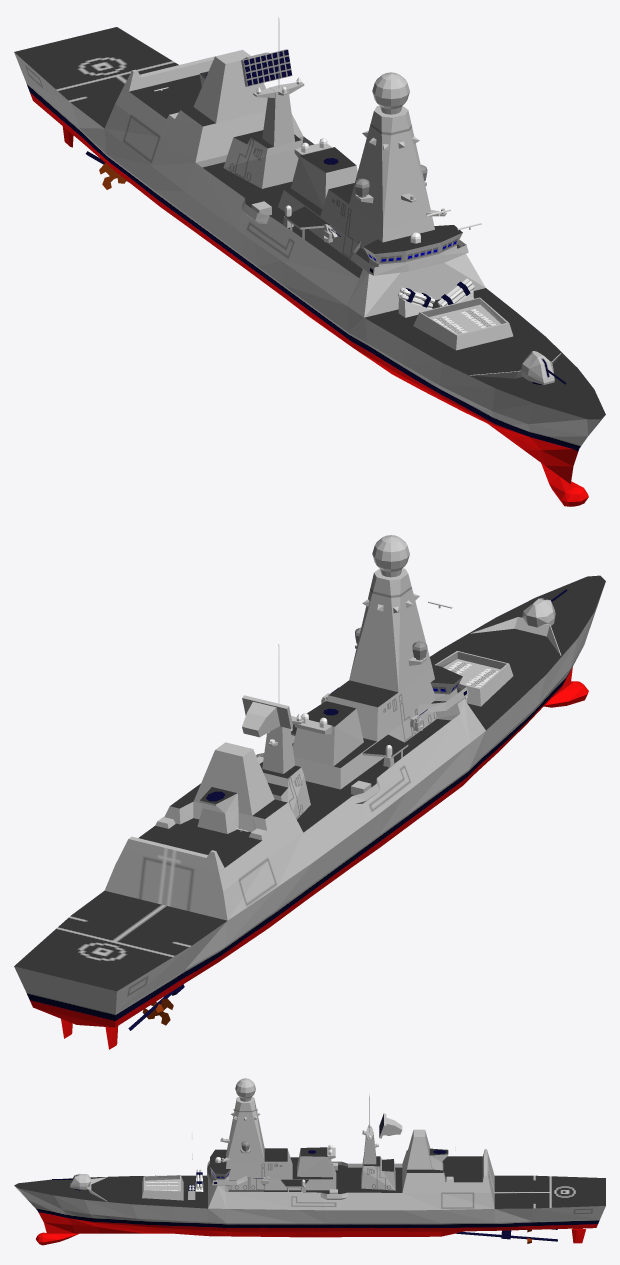
3 renders of one model, top to bottom at view 1: azimuth 30°, elevation 25°; view 2: azimuth 150°, elevation 25°; view 3: azimuth 270°, elevation 25°, orthographic. The views are drawn at different scales.
Parts seen in each view (by area): view 1: type-45.3ds_superstruc_Geometry_0, type-45.3ds_hull_Geometry_0, type-45.3ds_deck_Geometry_0, type-45.3ds_helo_pad_Geometry_0, type-45.3ds_3DSPIVOTPOINT: Rotate_3DSPIVOTPOINT: Translate . (×2), type-45.3ds_sylver_pit_Geometry_0, type-45.3ds_harpoons_Geometry_0, type-45.3ds_sylver_vls_Geometry_0, type-45.3ds_big_radome_Geometry_0, type-45.3ds_bridge_Geometry_0, type-45.3ds_bridge_win_Geometry_0, type-45.3ds_sonar_Geometry_0; view 2: type-45.3ds_superstruc_Geometry_0, type-45.3ds_hull_Geometry_0, type-45.3ds_deck_Geometry_0, type-45.3ds_helo_pad_Geometry_0, type-45.3ds_hangar_doo_Geometry_0, type-45.3ds_3DSPIVOTPOINT: Rotate_3DSPIVOTPOINT: Translate . (×2), type-45.3ds_sylver_pit_Geometry_0, type-45.3ds_big_radome_Geometry_0, type-45.3ds_sylver_vls_Geometry_0, type-45.3ds_deck_thing_Geometry_0, type-45.3ds_sonar_Geometry_0; view 3: type-45.3ds_hull_Geometry_0, type-45.3ds_superstruc_Geometry_0, type-45.3ds_deck_Geometry_0, type-45.3ds_helo_pad_Geometry_0, type-45.3ds_3DSPIVOTPOINT: Rotate_3DSPIVOTPOINT: Translate . (×2), type-45.3ds_sylver_pit_Geometry_0, type-45.3ds_sylver_vls_Geometry_0, type-45.3ds_big_radome_Geometry_0, type-45.3ds_prop_axis_Geometry_0, type-45.3ds_sonar_Geometry_0, type-45.3ds_harpoons_Geometry_0, type-45.3ds_bridge_win_Geometry_0.
Boxes of the visible parts, x1,y1,x2,y2 form: type-45.3ds_superstruc_Geometry_0: (104, 49, 485, 317); type-45.3ds_hull_Geometry_0: (14, 52, 605, 483); type-45.3ds_deck_Geometry_0: (129, 71, 605, 419); type-45.3ds_helo_pad_Geometry_0: (14, 27, 178, 128); type-45.3ds_3DSPIVOTPOINT: Rotate_3DSPIVOTPOINT: Translate . (×2): (241, 49, 566, 384); type-45.3ds_sylver_pit_Geometry_0: (413, 297, 513, 350); type-45.3ds_harpoons_Geometry_0: (398, 278, 474, 317); type-45.3ds_sylver_vls_Geometry_0: (429, 304, 500, 334); type-45.3ds_big_radome_Geometry_0: (372, 72, 409, 114); type-45.3ds_bridge_Geometry_0: (374, 232, 462, 266); type-45.3ds_bridge_win_Geometry_0: (351, 240, 468, 275); type-45.3ds_sonar_Geometry_0: (541, 463, 588, 506); type-45.3ds_superstruc_Geometry_0: (129, 568, 485, 920); type-45.3ds_hull_Geometry_0: (14, 585, 604, 1027); type-45.3ds_deck_Geometry_0: (139, 575, 605, 867); type-45.3ds_helo_pad_Geometry_0: (14, 890, 226, 991); type-45.3ds_hangar_doo_Geometry_0: (104, 839, 227, 920); type-45.3ds_3DSPIVOTPOINT: Rotate_3DSPIVOTPOINT: Translate . (×2): (242, 589, 567, 737); type-45.3ds_sylver_pit_Geometry_0: (435, 651, 513, 706); type-45.3ds_big_radome_Geometry_0: (372, 535, 409, 577); type-45.3ds_sylver_vls_Geometry_0: (443, 659, 500, 688); type-45.3ds_deck_thing_Geometry_0: (470, 617, 561, 655); type-45.3ds_sonar_Geometry_0: (544, 681, 588, 707); type-45.3ds_hull_Geometry_0: (15, 1186, 605, 1237); type-45.3ds_superstruc_Geometry_0: (208, 1097, 494, 1210); type-45.3ds_deck_Geometry_0: (14, 1147, 482, 1208); type-45.3ds_helo_pad_Geometry_0: (494, 1175, 605, 1208); type-45.3ds_3DSPIVOTPOINT: Rotate_3DSPIVOTPOINT: Translate . (×2): (52, 1113, 402, 1190); type-45.3ds_sylver_pit_Geometry_0: (142, 1175, 183, 1200); type-45.3ds_sylver_vls_Geometry_0: (144, 1179, 179, 1190); type-45.3ds_big_radome_Geometry_0: (235, 1078, 255, 1101); type-45.3ds_prop_axis_Geometry_0: (456, 1229, 557, 1241); type-45.3ds_sonar_Geometry_0: (36, 1232, 78, 1245); type-45.3ds_harpoons_Geometry_0: (188, 1169, 203, 1199); type-45.3ds_bridge_win_Geometry_0: (207, 1160, 247, 1185).
Bounding box in the file's own units: 19.03 × 41.87 × 136.
2 materials, 1 textured.
